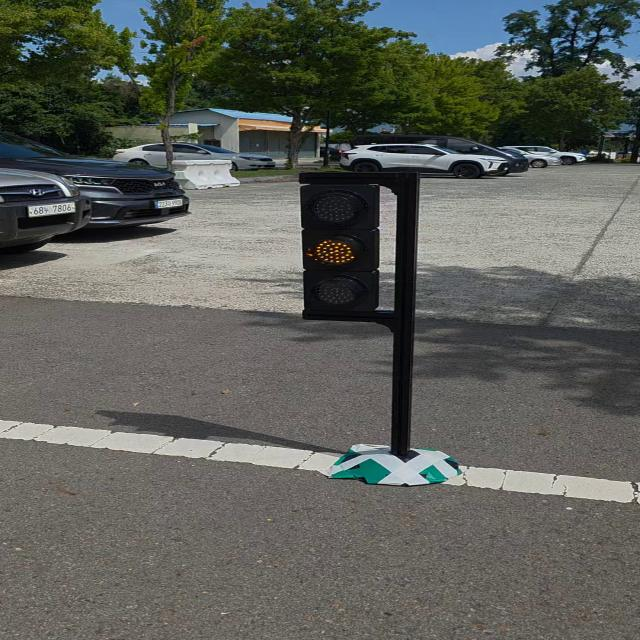yellow: (298, 186, 378, 313)
